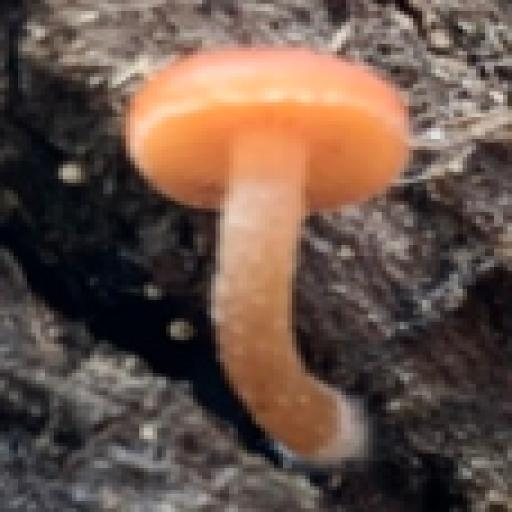mushroom: (110, 31, 427, 362)
